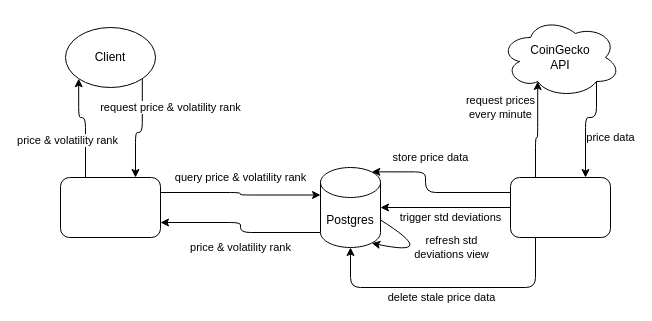
This 652x321 diagram has some shape labels left out. Each missing label, with the centre of its shape:
"Sync Service" goes at point 560,207.
"Web Server" goes at point 110,207.
